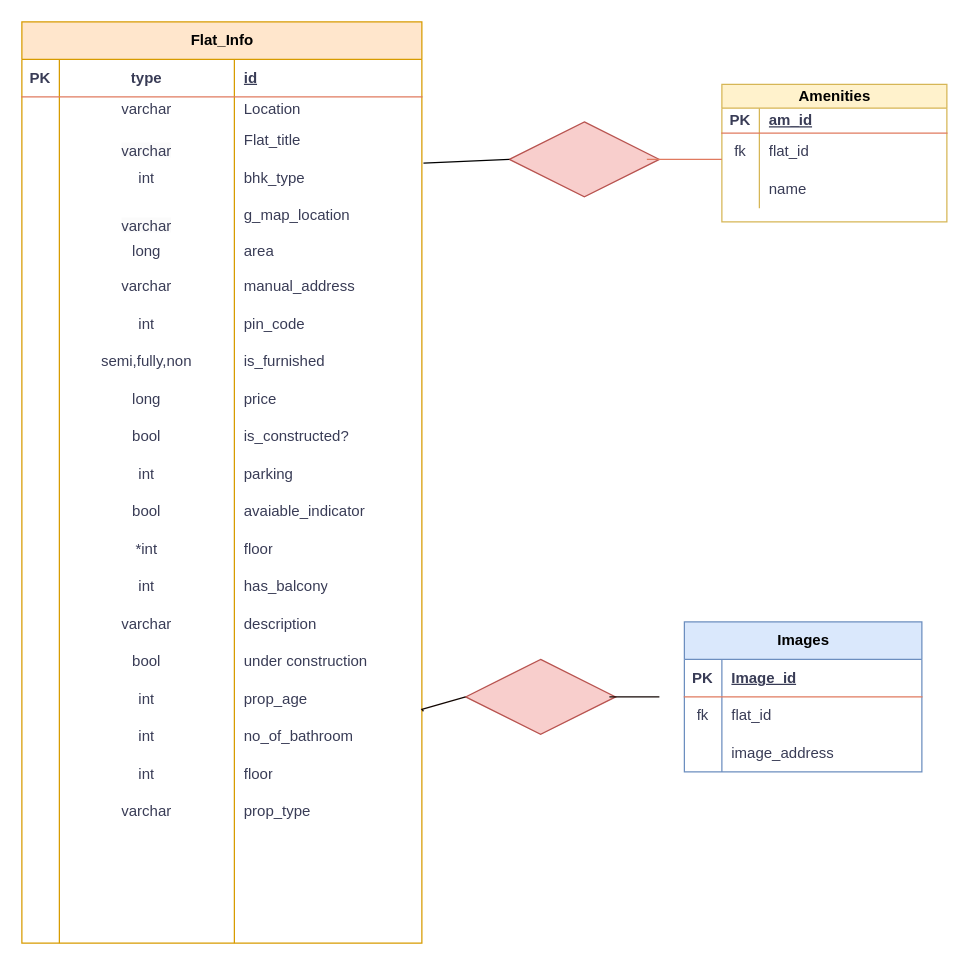
Some shapes in this 969 by 965 pixel diagram are drawn without their labels. The shapes that lost their labels are listed below. From the top down, each one's centre as x and y in pixels, then its label:
At pixel 583 159: "has_many".
At pixel 540 696: "flat has many".
